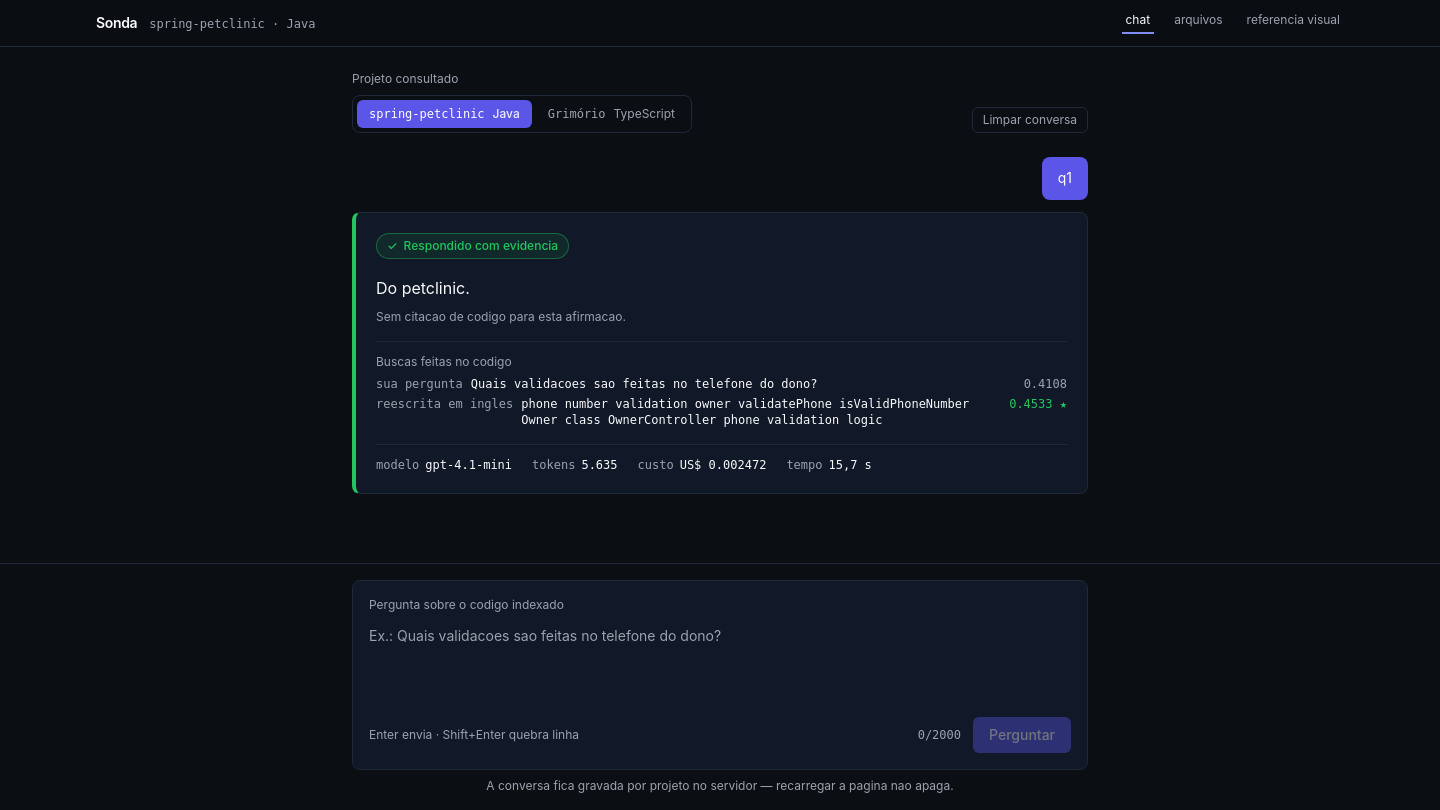
limpar conversa › confirmar apaga SO o projeto ativo; o outro fica intacto
This screenshot has width=1440, height=810.
Check: the text "Do petclinic." is shown, box [376,278,470,298]
Click the button "Limpar conversa": [1030, 120] box [972,107,1088,133]
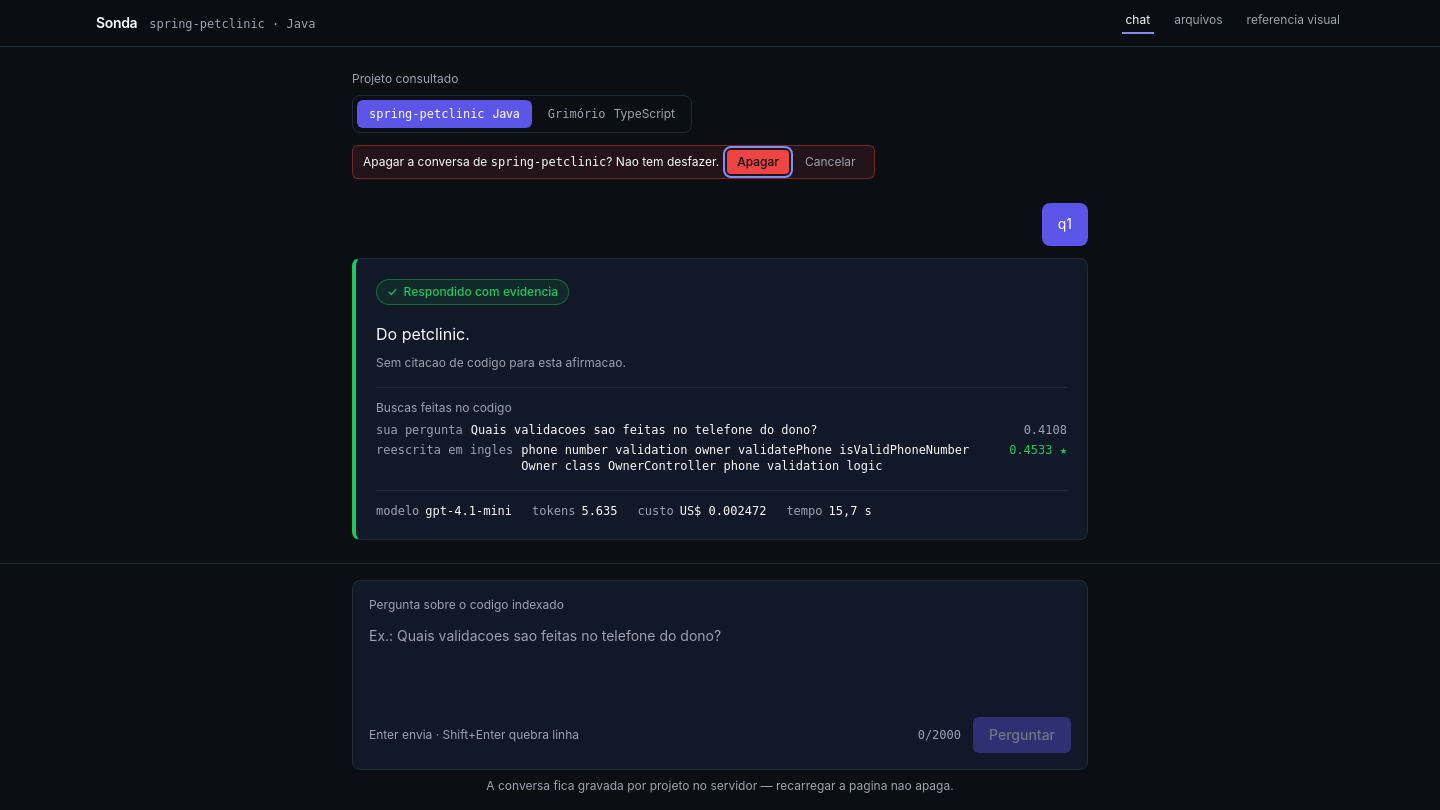
Click the button "Apagar": [758, 162] box [727,150,789,174]
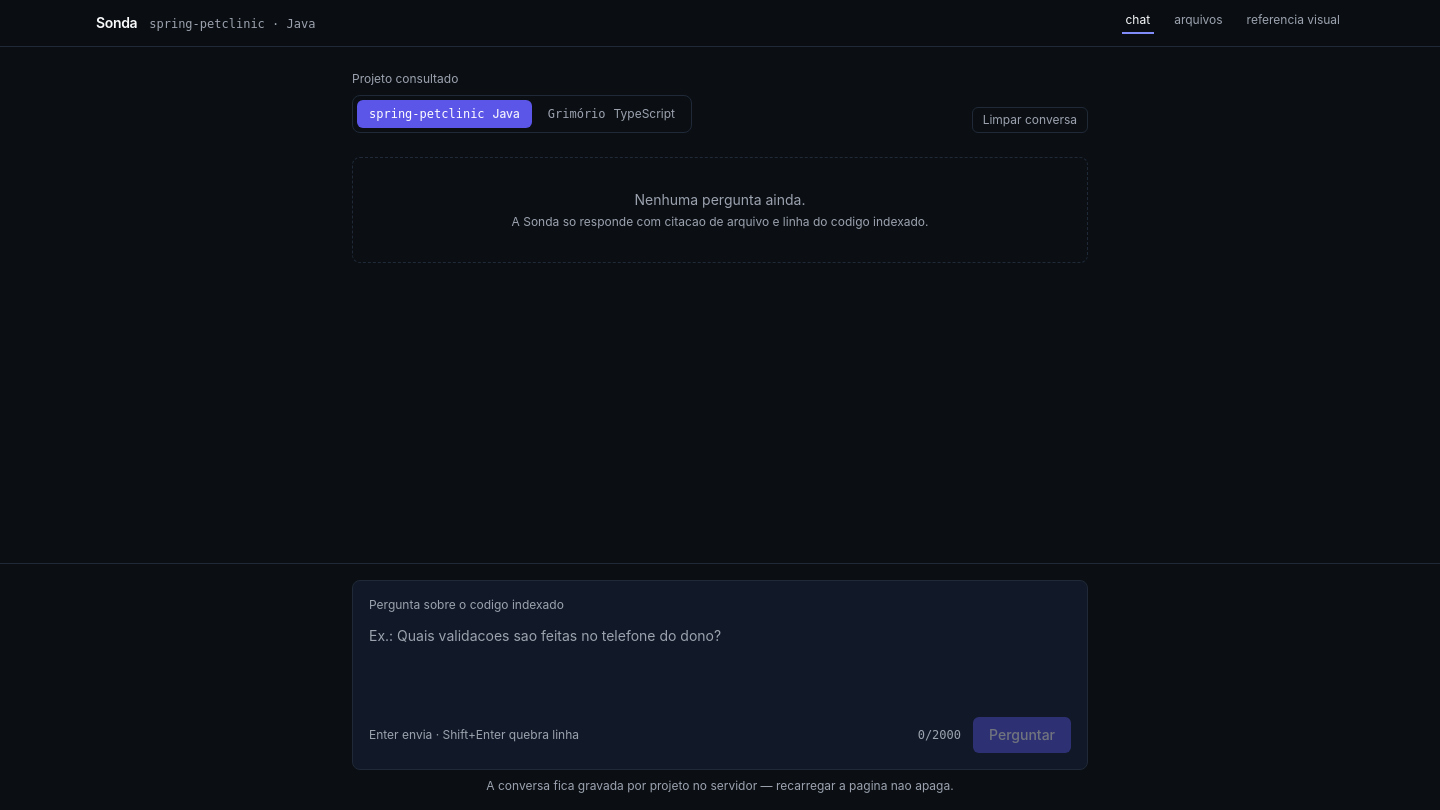
Check: the text "Nenhuma pergunta ainda." is shown, box [634,191,806,208]
// E o outro projeto continua mostrando a conversa dele.
Click the tab "Grimório TypeScript": [611, 114] box [536,100,687,128]
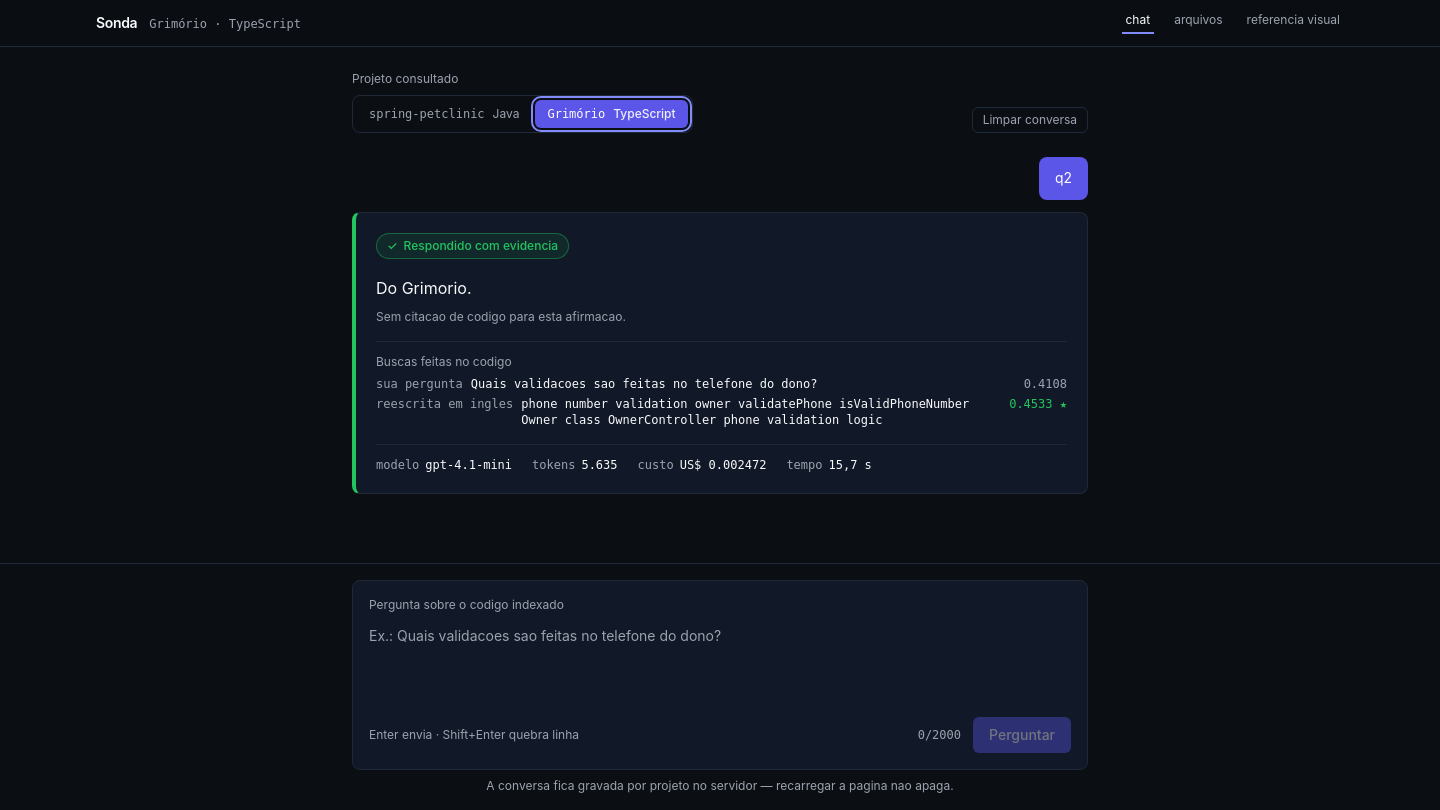
Check: the text "Do Grimorio." is shown, box [376,278,472,298]
